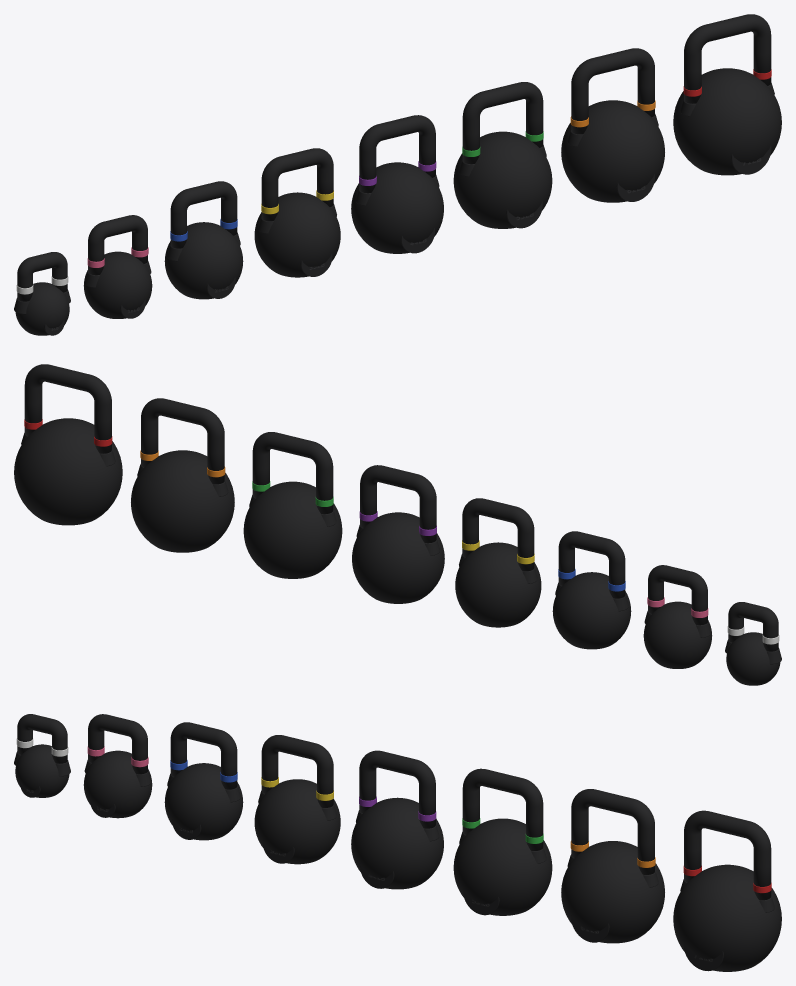
File: life-fitness-cast-iron-kettlebells_v002.glb
The picture shows the model from 3 angles, top to bottom: view 1: azimuth 30°, elevation 25°; view 2: azimuth 150°, elevation 25°; view 3: azimuth 330°, elevation 25°; orthographic projection.
Parts seen in each view (by area): view 1: life-fitness-cast-iron-kettlebells_iron, life-fitness-cast-iron-kettlebells_iron.001, life-fitness-cast-iron-kettlebells_iron.002; view 2: life-fitness-cast-iron-kettlebells_iron, life-fitness-cast-iron-kettlebells_iron.001; view 3: life-fitness-cast-iron-kettlebells_iron, life-fitness-cast-iron-kettlebells_iron.001, life-fitness-cast-iron-kettlebells_iron.002.
Part boxes in pixels (x1,y1,x2,y2): life-fitness-cast-iron-kettlebells_iron: (14, 68, 781, 335); life-fitness-cast-iron-kettlebells_iron.001: (17, 14, 771, 301); life-fitness-cast-iron-kettlebells_iron.002: (44, 145, 771, 335); life-fitness-cast-iron-kettlebells_iron: (14, 418, 781, 685); life-fitness-cast-iron-kettlebells_iron.001: (24, 364, 778, 651); life-fitness-cast-iron-kettlebells_iron: (14, 744, 781, 971); life-fitness-cast-iron-kettlebells_iron.001: (17, 714, 771, 900); life-fitness-cast-iron-kettlebells_iron.002: (20, 782, 723, 971).
Size of the model in its own units: 2.04 by 0.3638 by 0.2531.
